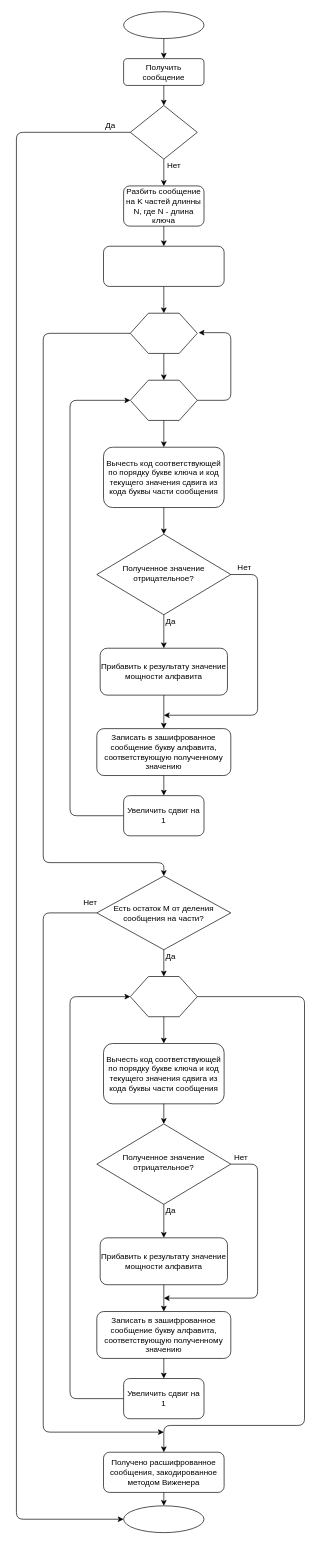
The diagram is 322 pixels wide and 1544 high, and some of its shapes have lost their labels. Each missing label, with the centre of its shape:
"i = 0; i < K; i++" belongs at (163,333).
"i = 0; i < M; i++" belongs at (163,996).
"j = 0; j < N; j++" belongs at (163,400).
"Конец" belongs at (163,1519).
"Начало" belongs at (163,25).
"Определить максимальное значение числа сдвига (на 1 меньше длины слова)" belongs at (163,266).
"Сообщение пустое?" belongs at (163,132).
